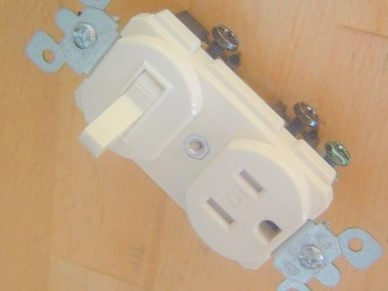outlet: (194, 162, 286, 247)
